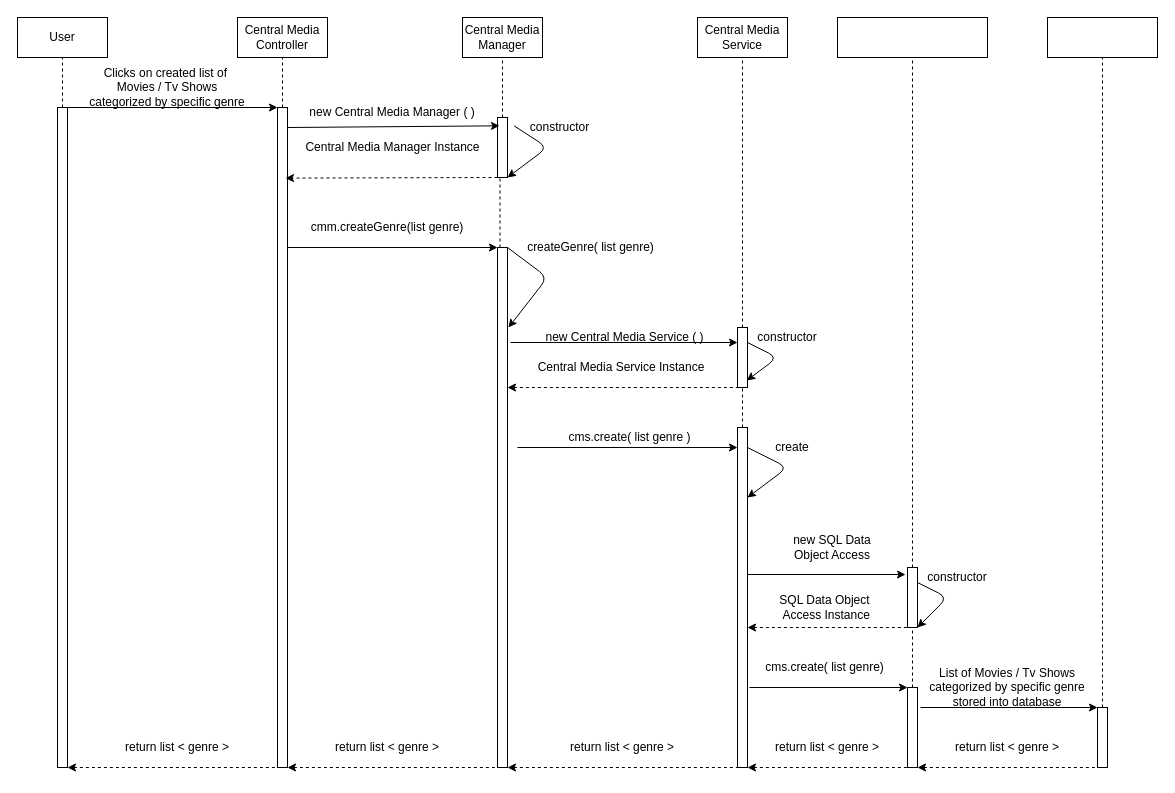
The diagram is 1175 pixels wide and 793 high, and some of its shapes have lost their labels. The centre of each missing label's shape, as x and y in pixels:
"SQL Data Access Object" goes at point (912, 37).
"SQL Server" goes at point (1102, 37).
